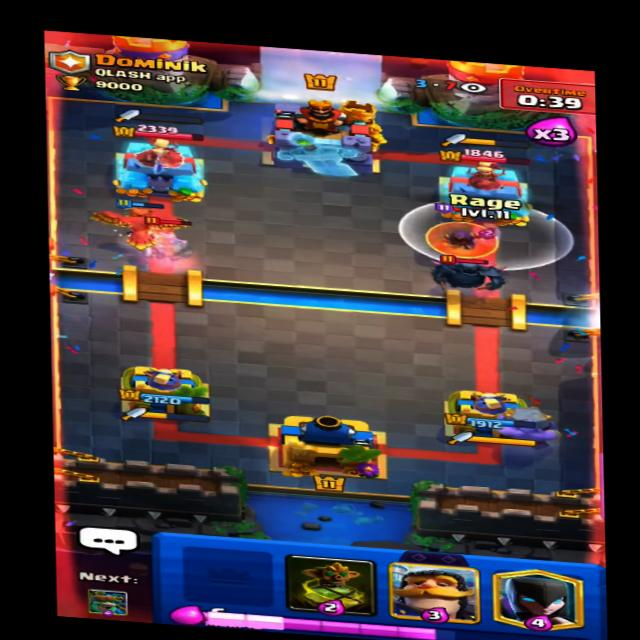evo-wizard: (417, 200, 508, 262)
pekka: (430, 248, 511, 297)
royal-ghost: (132, 214, 206, 273)
